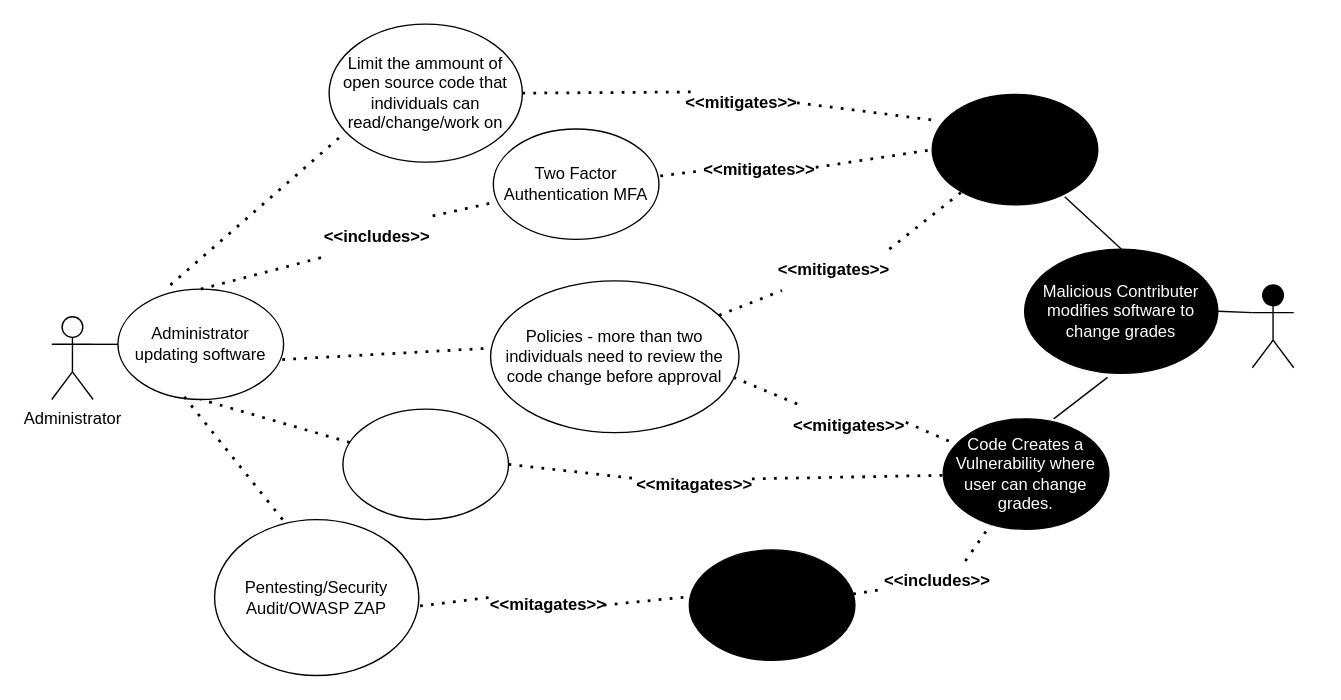
Image size: 1341x700. Some labels were removed from this diagram. The centre of each missing label's shape, as x and y in pixels:
"Automated Static Code Analysis" goes at point 425,464.
"Code to Steals Admins Username/Password" goes at point 1014,149.
"Creates vulnerability for SQL injection" goes at point 771,604.
"Threat Actor" goes at point 1272,326.
